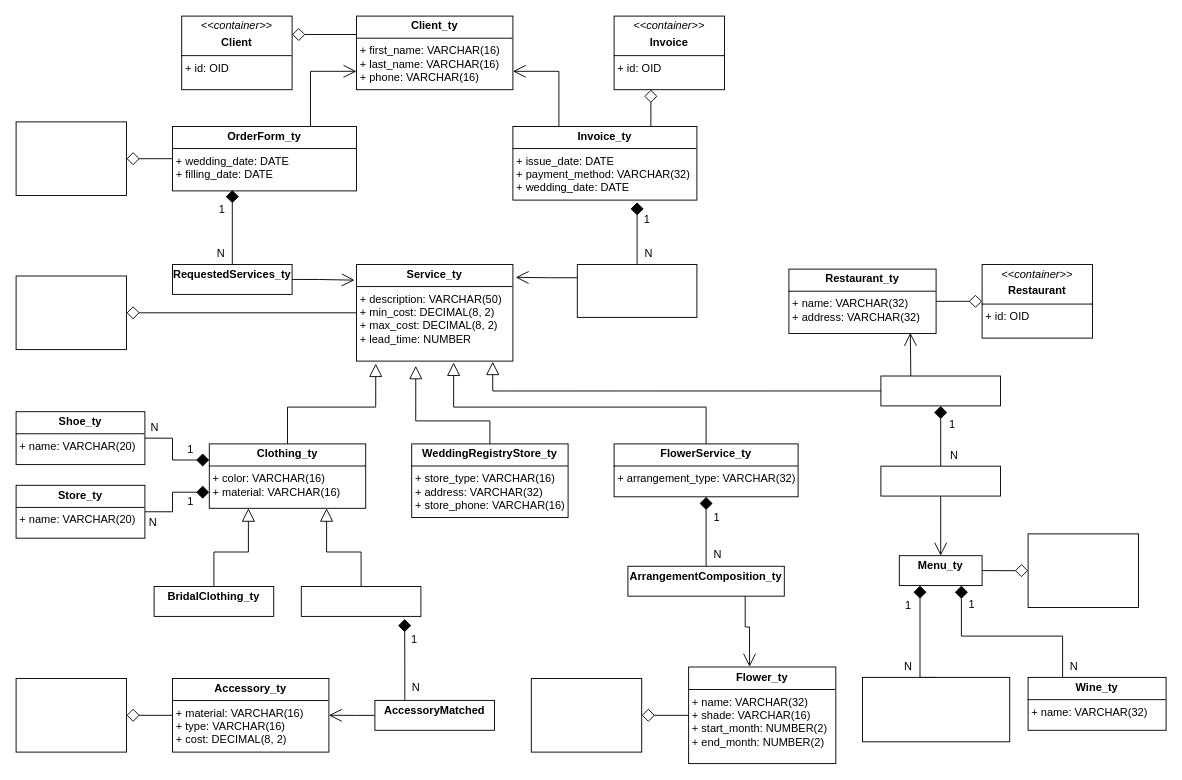
The diagram is 1182 pixels wide and 780 high, and some of its shapes have lost their labels. The centre of each missing label's shape, as x and y in pixels:
"<<container>> Accessory + id: OID" belongs at (x=70, y=715).
"<<container>> Flower + id: OID" belongs at (x=586, y=715).
"<<container>> Menu + id: OID" belongs at (x=1082, y=570).
"<<container>> OrderForm + id: OID" belongs at (x=70, y=158).
"<<container>> Service + id: OID" belongs at (x=70, y=312).
"Catering_ty" belongs at (x=940, y=390).
"Dish_ty + description: VARCHAR(50) + type: VARCHAR(16)" belongs at (x=936, y=709).
"GroomClothing_ty" belongs at (x=360, y=601).
"ProposedMenus_ty" belongs at (x=940, y=480).
"ProvidedServices_ty + cost: DECIMAL(8, 2)" belongs at (x=636, y=290).
